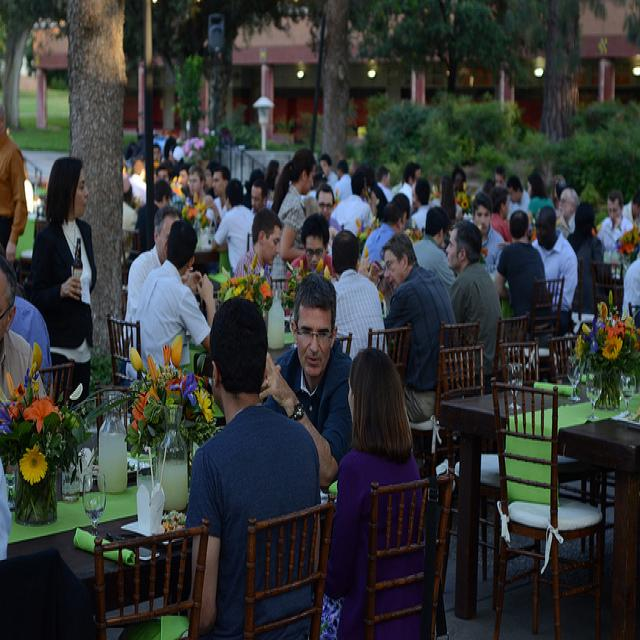chair: (118, 223, 618, 617), (492, 380, 601, 631), (367, 468, 454, 640), (94, 519, 209, 639), (248, 492, 333, 640), (441, 341, 485, 473), (435, 319, 481, 417), (528, 274, 565, 385), (107, 312, 142, 389), (369, 323, 413, 383), (493, 312, 527, 374), (591, 263, 623, 316), (548, 335, 581, 384), (41, 358, 75, 404)
dining table: (444, 376, 640, 631), (46, 506, 139, 640), (194, 224, 229, 275)
